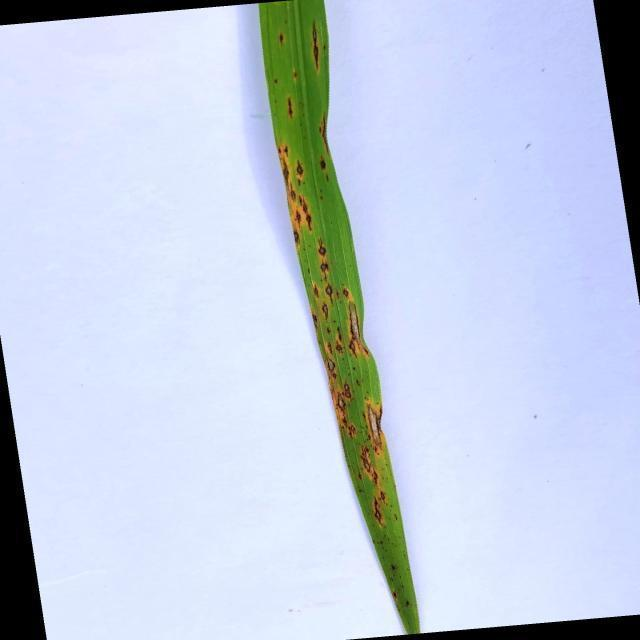Leaf_Blast: (349, 302, 371, 357), (369, 408, 383, 450), (312, 22, 323, 69), (318, 112, 330, 153), (336, 391, 348, 414), (374, 498, 384, 524), (323, 283, 336, 301), (282, 159, 291, 185), (348, 338, 359, 358), (362, 454, 373, 473), (370, 467, 381, 485), (318, 240, 329, 258), (286, 97, 295, 119), (304, 214, 315, 231), (321, 303, 331, 320), (319, 261, 331, 275), (326, 357, 337, 372), (334, 341, 345, 355), (296, 161, 305, 178), (311, 312, 320, 328), (312, 283, 321, 297), (292, 231, 303, 242), (348, 423, 358, 435), (345, 383, 352, 400), (290, 186, 297, 203), (379, 491, 388, 503), (302, 200, 309, 215), (341, 416, 350, 427), (320, 157, 327, 171), (295, 211, 301, 227), (344, 288, 352, 298), (327, 342, 334, 353), (283, 145, 290, 156), (357, 471, 364, 481), (332, 372, 340, 380)
